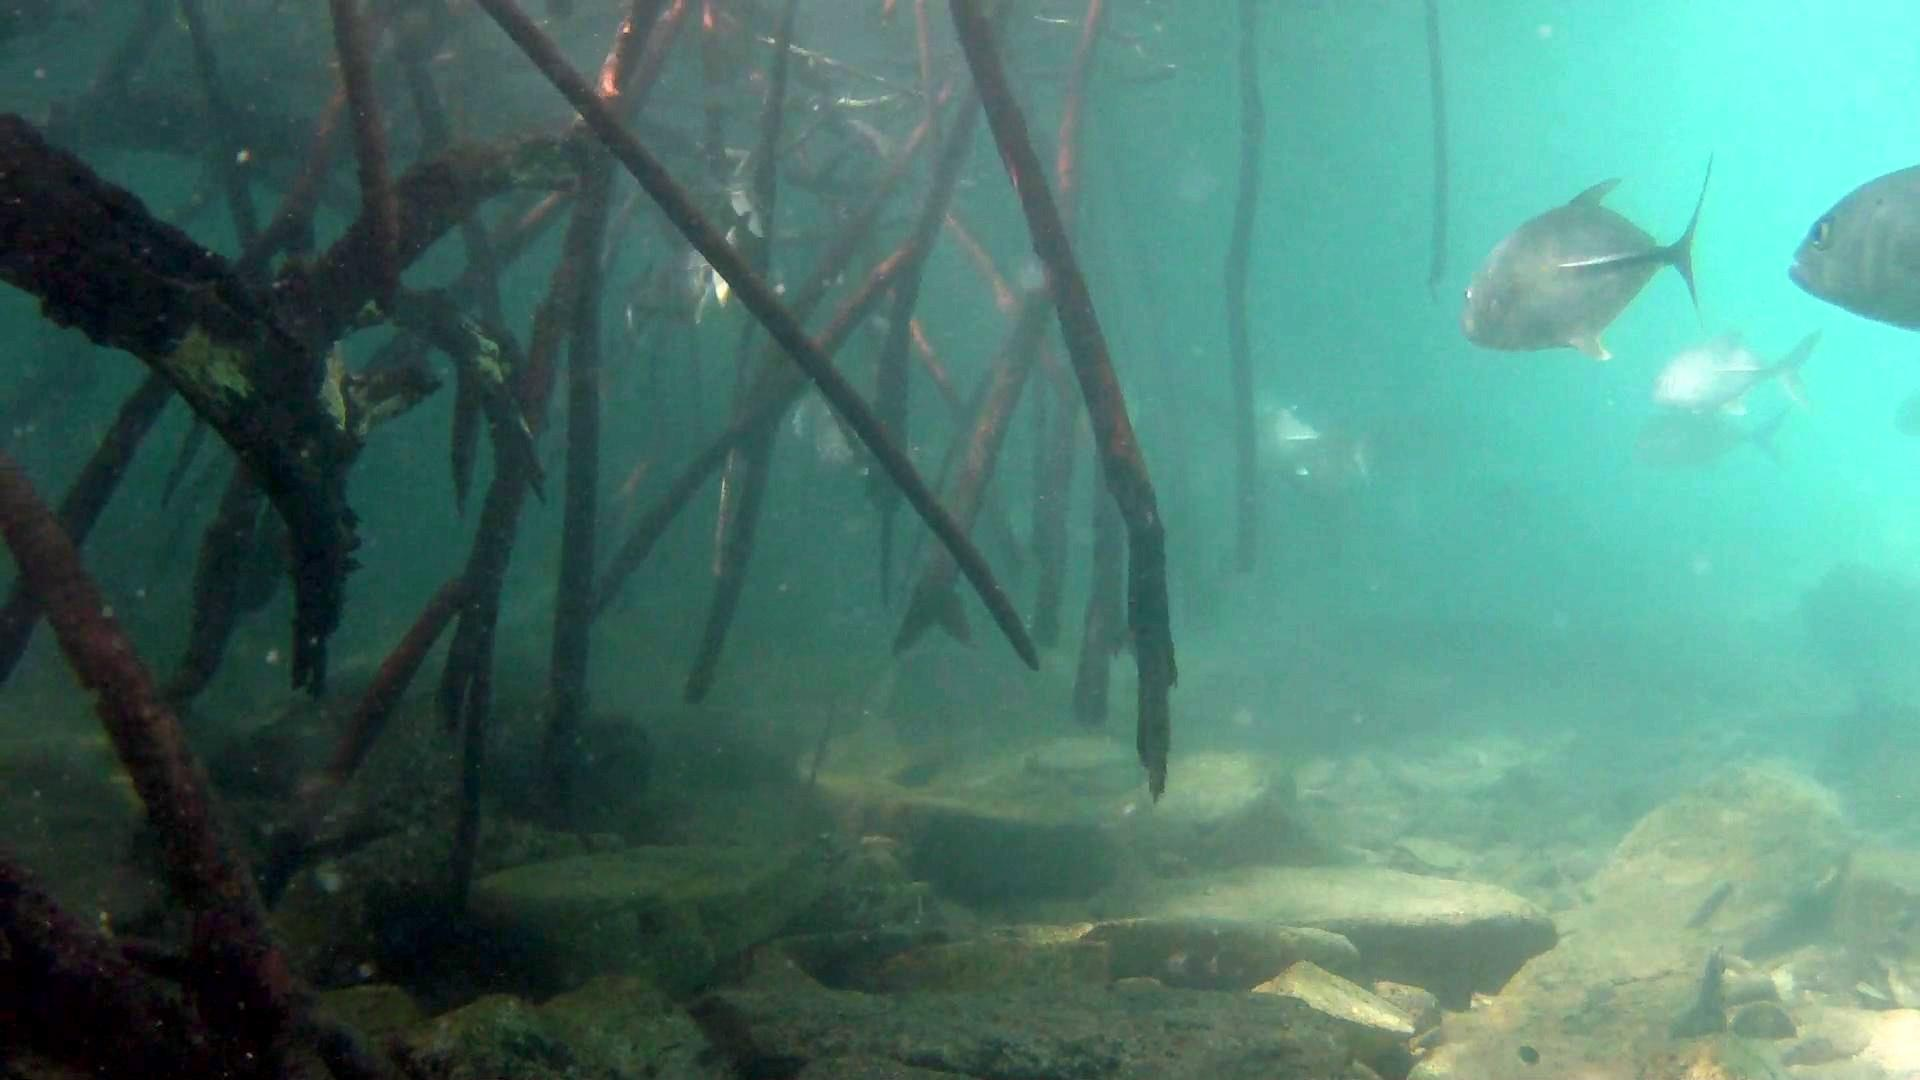caranx: (1447, 150, 1735, 373), (1778, 156, 1920, 359)
